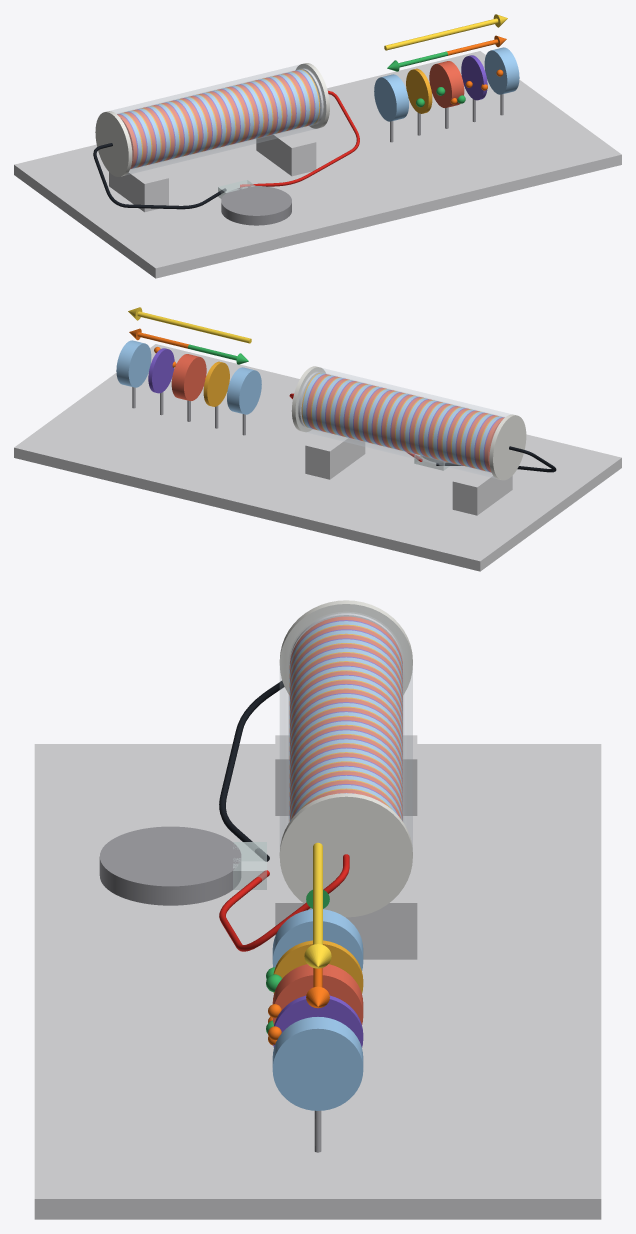
The model's file is artificial-electric-organ.obj.
The picture shows the model from 3 angles, top to bottom: view 1: azimuth 30°, elevation 25°; view 2: azimuth 150°, elevation 25°; view 3: azimuth 270°, elevation 25°; orthographic projection. The views are drawn at different scales.
Visible parts, largest first — view 1: Base_plate, Silicone_sleeve, Gel_stack__20_cells_.High-salt_gel_layers, Gel_stack__20_cells_.Low-salt_gel_layers, Cradle, Exploded_cell.Low-salt_gel_layer, End_caps, Implant__pacemaker-style_.Titanium_can, Gel_stack__20_cells_.Cation-selective_membranes, Gel_stack__20_cells_.Anion-selective_membranes, Exploded_cell.High-salt_gel_layer, Exploded_cell.Anion-selective_membrane (+5 smaller); view 2: Base_plate, Silicone_sleeve, Gel_stack__20_cells_.High-salt_gel_layers, Gel_stack__20_cells_.Low-salt_gel_layers, Cradle, Exploded_cell.Low-salt_gel_layer, End_caps, Gel_stack__20_cells_.Cation-selective_membranes, Gel_stack__20_cells_.Anion-selective_membranes, Exploded_cell.High-salt_gel_layer, Exploded_cell.Anion-selective_membrane, Exploded_cell.Cation-selective_membrane (+3 smaller); view 3: Base_plate, Silicone_sleeve, End_caps, Exploded_cell.Low-salt_gel_layer, Implant__pacemaker-style_.Titanium_can, Gel_stack__20_cells_.High-salt_gel_layers, Gel_stack__20_cells_.Low-salt_gel_layers, Cradle, Gel_stack__20_cells_.Cation-selective_membranes, Gel_stack__20_cells_.Anion-selective_membranes, Exploded_cell.High-salt_gel_layer, Exploded_cell.Cation-selective_membrane (+5 smaller).
Boxes of the visible parts, box(x1,y1,x2,y2) form: Base_plate: box(14, 51, 621, 278); Silicone_sleeve: box(111, 64, 325, 174); Gel_stack__20_cells_.High-salt_gel_layers: box(117, 71, 314, 168); Gel_stack__20_cells_.Low-salt_gel_layers: box(119, 70, 319, 168); Cradle: box(109, 128, 316, 212); Exploded_cell.Low-salt_gel_layer: box(374, 47, 519, 121); End_caps: box(95, 63, 329, 176); Implant__pacemaker-style_.Titanium_can: box(221, 186, 291, 225); Gel_stack__20_cells_.Cation-selective_membranes: box(118, 70, 315, 168); Gel_stack__20_cells_.Anion-selective_membranes: box(123, 69, 319, 166); Exploded_cell.High-salt_gel_layer: box(429, 61, 464, 107); Exploded_cell.Anion-selective_membrane: box(406, 68, 432, 113); Base_plate: box(14, 344, 621, 571); Silicone_sleeve: box(296, 368, 511, 478); Gel_stack__20_cells_.High-salt_gel_layers: box(307, 374, 504, 471); Gel_stack__20_cells_.Low-salt_gel_layers: box(302, 373, 502, 471); Cradle: box(305, 432, 512, 515); Exploded_cell.Low-salt_gel_layer: box(116, 340, 261, 414); End_caps: box(291, 366, 526, 480); Gel_stack__20_cells_.Cation-selective_membranes: box(306, 374, 503, 471); Gel_stack__20_cells_.Anion-selective_membranes: box(301, 373, 497, 470); Exploded_cell.High-salt_gel_layer: box(171, 354, 206, 400); Exploded_cell.Anion-selective_membrane: box(203, 361, 229, 406); Exploded_cell.Cation-selective_membrane: box(148, 348, 174, 393); Base_plate: box(34, 744, 601, 1219); Silicone_sleeve: box(280, 604, 412, 846); End_caps: box(279, 600, 412, 917); Exploded_cell.Low-salt_gel_layer: box(272, 909, 363, 1110); Implant__pacemaker-style_.Titanium_can: box(99, 826, 241, 905); Gel_stack__20_cells_.High-salt_gel_layers: box(289, 616, 402, 820); Gel_stack__20_cells_.Low-salt_gel_layers: box(289, 621, 402, 820); Cradle: box(275, 735, 417, 959); Gel_stack__20_cells_.Cation-selective_membranes: box(289, 620, 402, 815); Gel_stack__20_cells_.Anion-selective_membranes: box(289, 624, 402, 819); Exploded_cell.High-salt_gel_layer: box(272, 964, 363, 1024); Exploded_cell.Cation-selective_membrane: box(273, 995, 363, 1047).
Size of the model in its own units: 0.38 by 0.0868 by 0.2.
